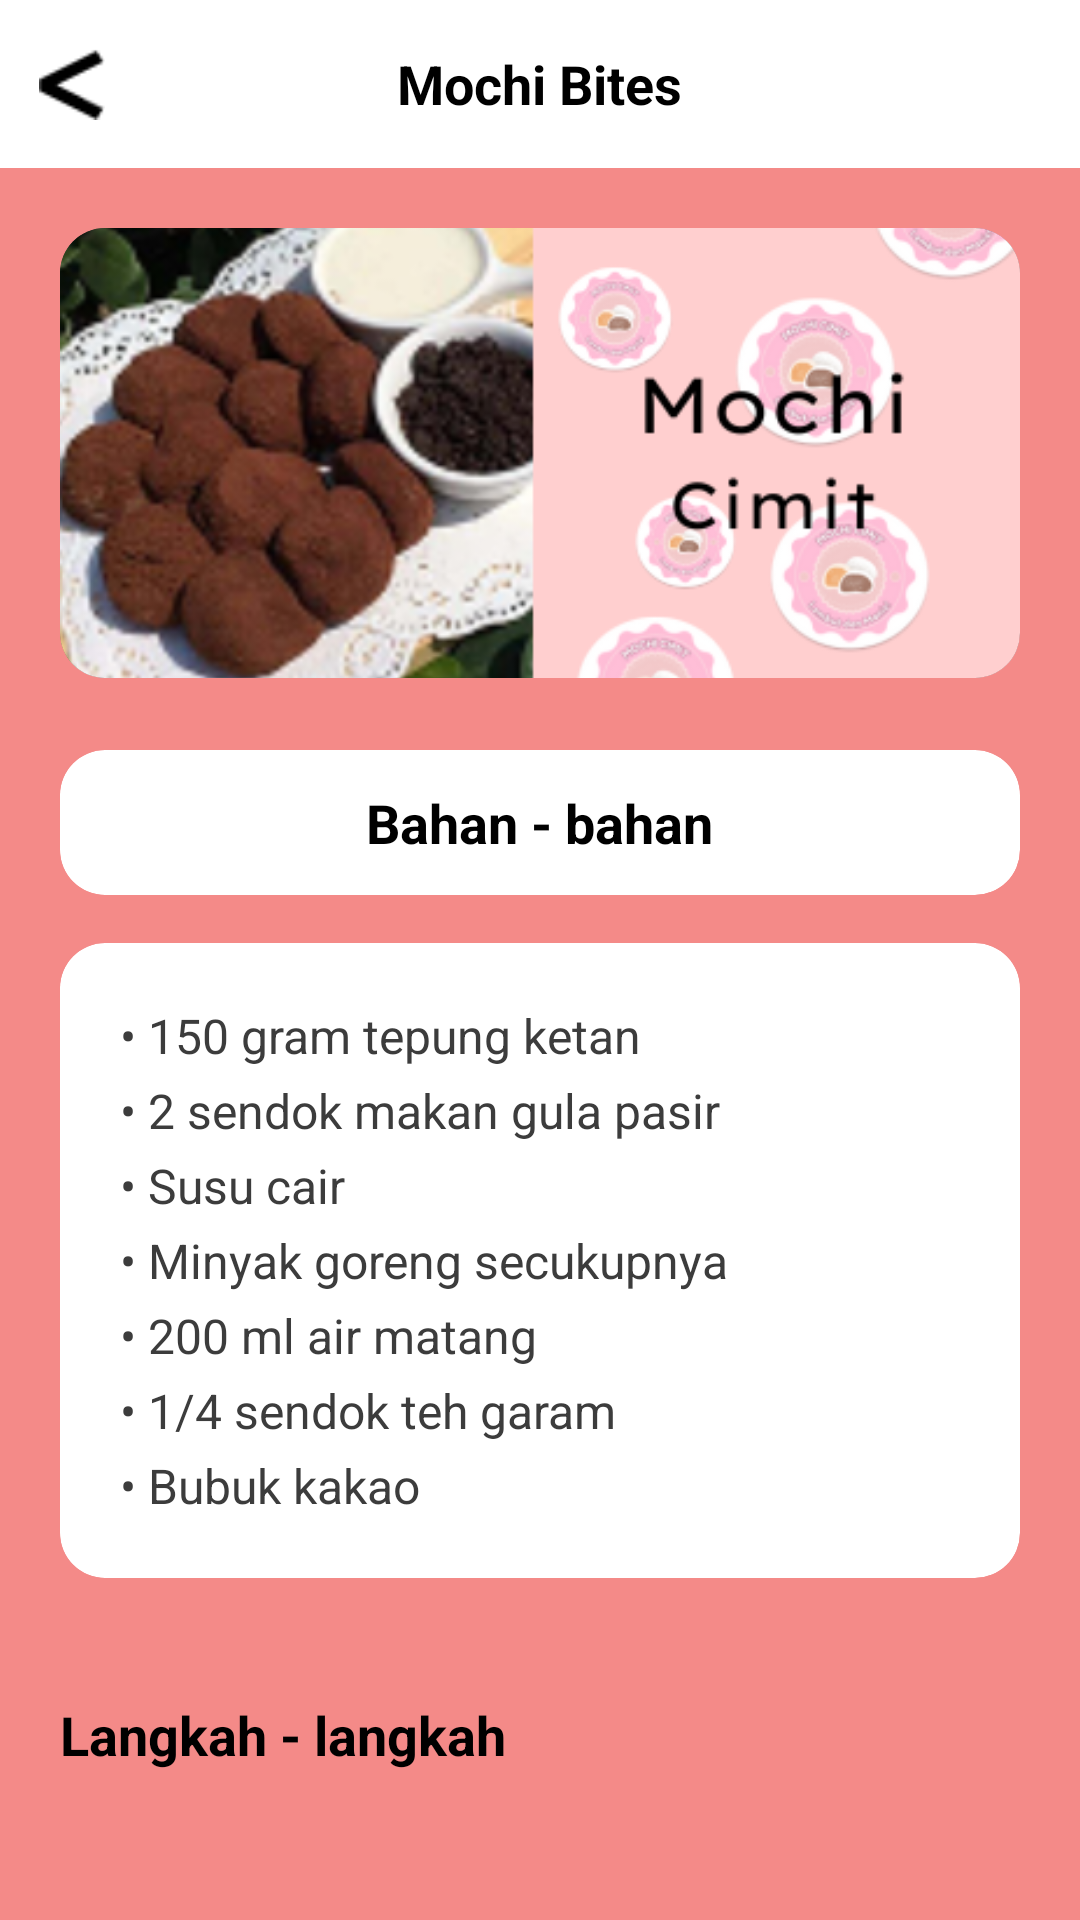

Named icons in this screenshot (1080px×1920px) and their centers, (x=x, y=y):
Kembali: (x=71, y=85)
